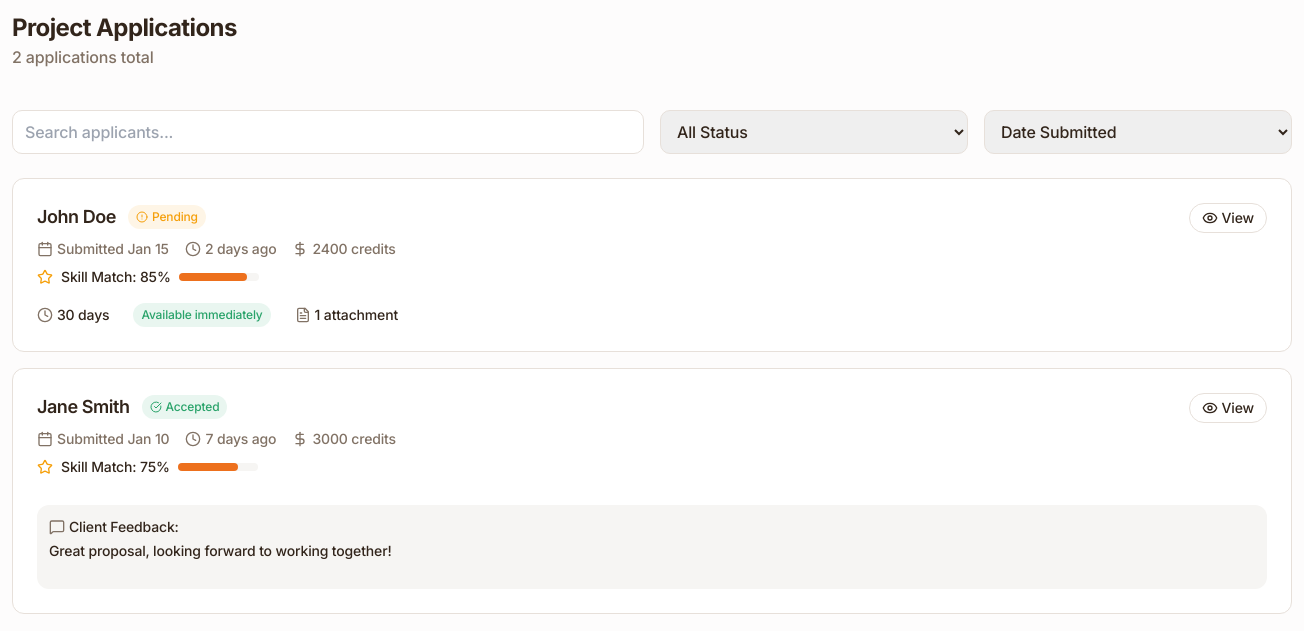
ApplicationsView › Empty States › shows filtered empty state
Type "NonExistentName" into the field with placeholder "Search applicants...".
click(328, 132); type("NonExistentName")  # box [12, 110, 644, 154]
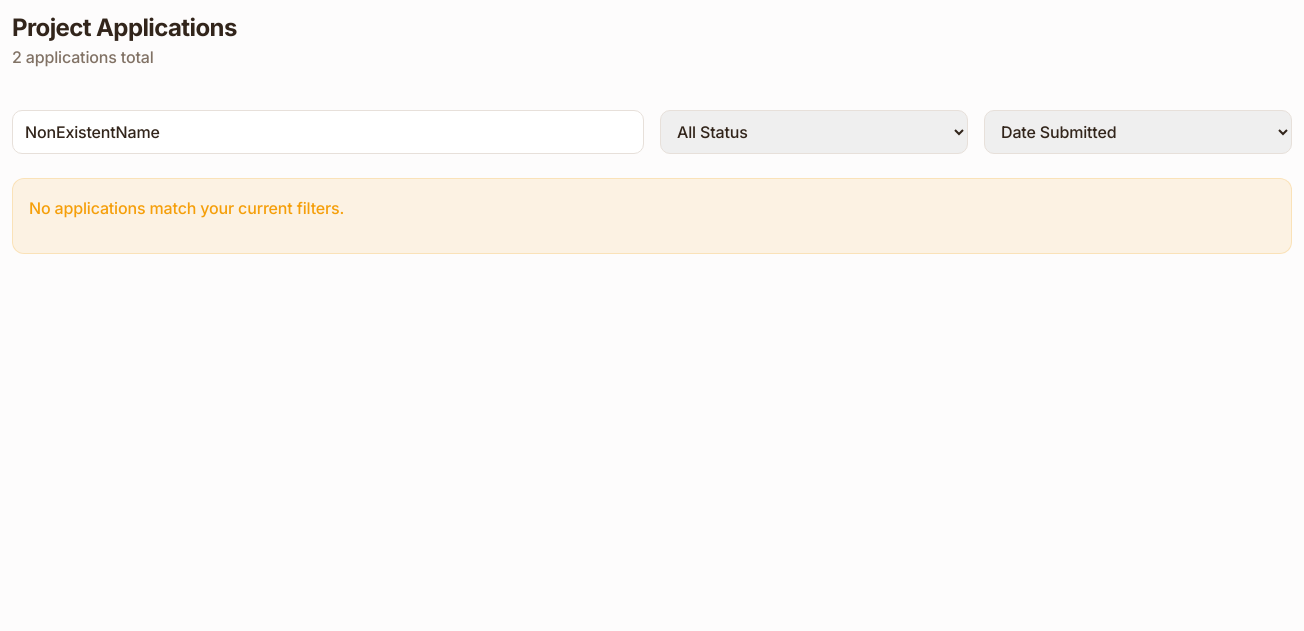
Expected: the text "No applications match your current filters." is shown, [29, 198, 344, 218]
